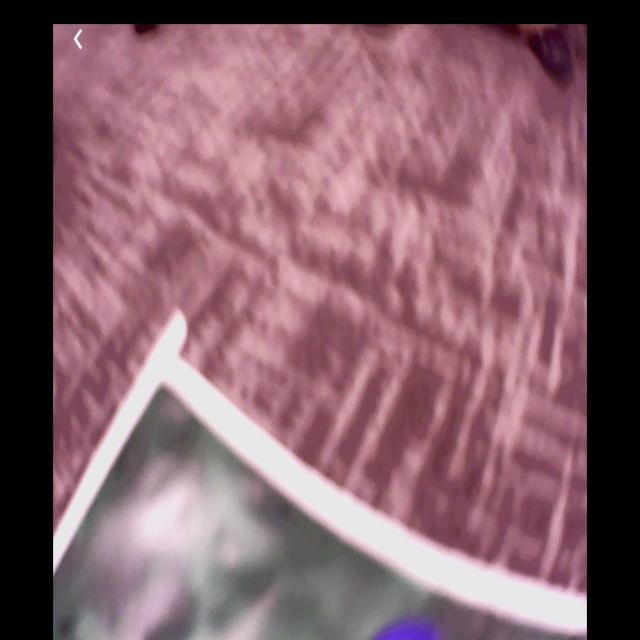ball: (375, 614, 442, 640)
